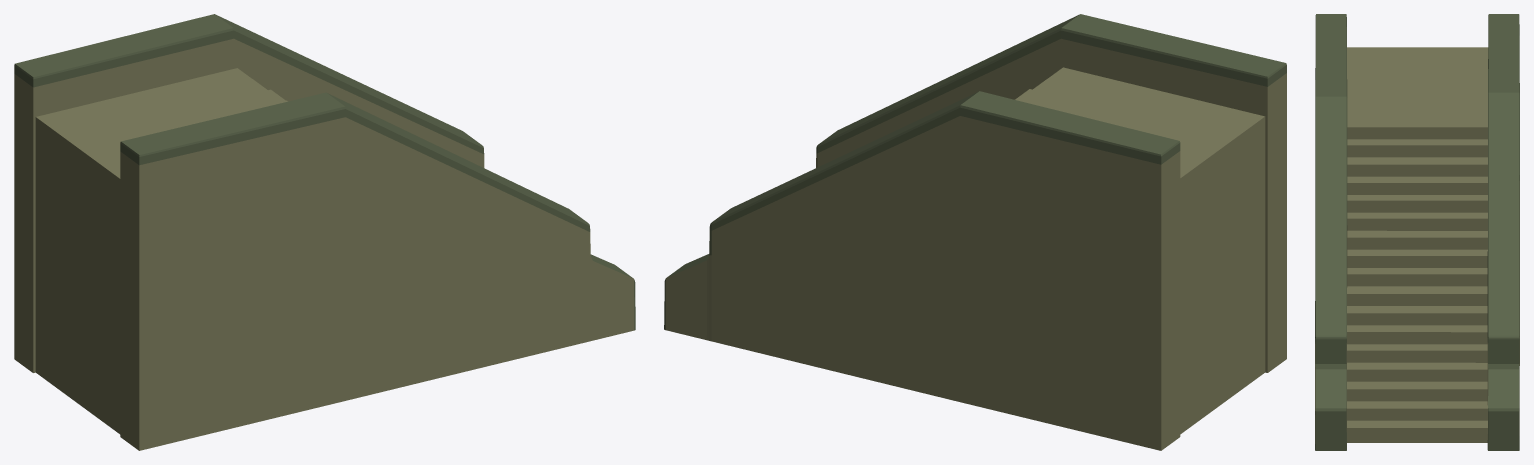
3 views of the same model, side by side, from view 1: azimuth 30°, elevation 25°; view 2: azimuth 150°, elevation 25°; view 3: azimuth 270°, elevation 25° (orthographic). The views are drawn at different scales.
Parts seen in each view (by area): view 1: Stairs02; view 2: Stairs02; view 3: Stairs02.
Part boxes in pixels (x1,y1,x2,y2): Stairs02: [14, 14, 635, 450]; Stairs02: [664, 14, 1286, 450]; Stairs02: [1315, 14, 1519, 450].
Size of the model in its own units: 6.6 by 3.76 by 2.9.
